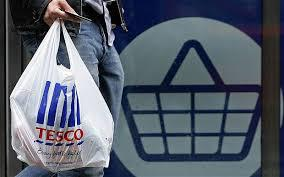Plastic: (4, 17, 116, 172)
